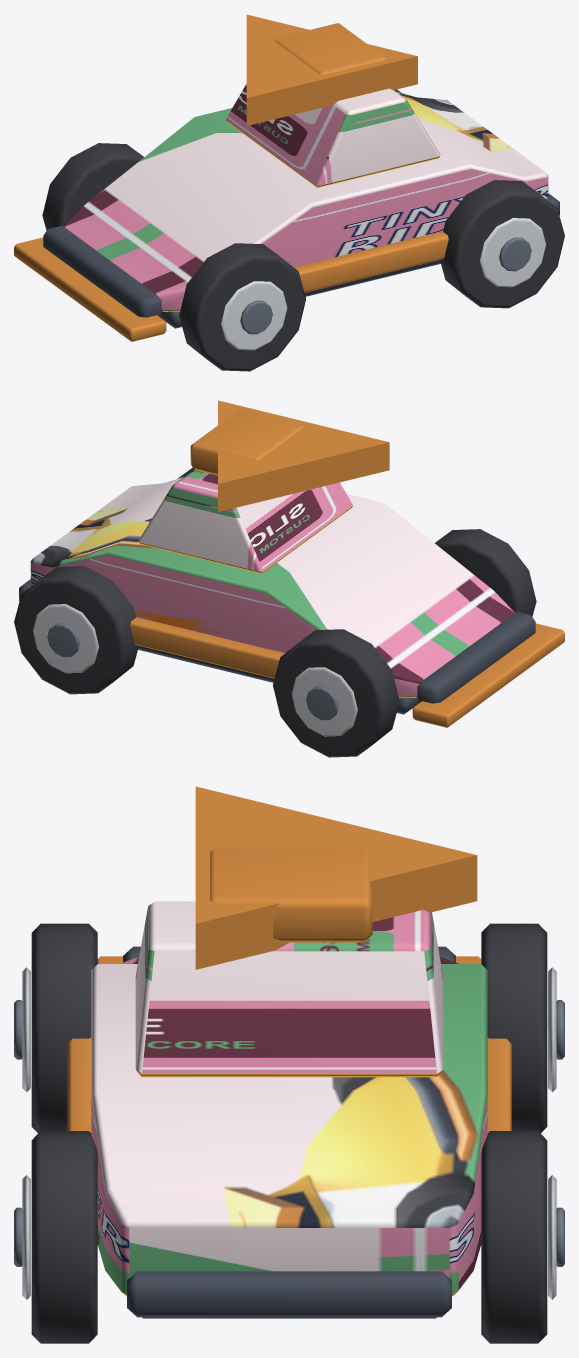
3 views of the same model, one above another, from view 1: azimuth 30°, elevation 25°; view 2: azimuth 150°, elevation 25°; view 3: azimuth 270°, elevation 25° (orthographic). The views are drawn at different scales.
Visible parts, largest first — view 1: SS-02_connected_shell, SS-02_cabin, flat pizza wedge, Tire, Tire.002, Tire.001, custom chin, custom side guard, front bumper, custom equipment, Rim, Rim.002 (+3 smaller); view 2: SS-02_connected_shell, SS-02_cabin, flat pizza wedge, Tire.001, Tire.003, Tire, custom chin, custom side guard.001, custom equipment, front bumper, Rim.001, Rim.003 (+3 smaller); view 3: SS-02_connected_shell, SS-02_cabin, flat pizza wedge, rear bumper, Tire.002, Tire.003, custom equipment, Tire, Tire.001, custom side guard, custom side guard.001, Rim (+3 smaller).
Boxes of the visible parts, x1,y1,x2,y2 form: SS-02_connected_shell: (64,91,548,311); SS-02_cabin: (226,84,440,187); flat pizza wedge: (246,14,417,125); Tire: (179,243,305,371); Tire.002: (440,180,564,308); Tire.001: (42,143,143,230); custom chin: (14,237,166,341); custom side guard: (293,231,448,292); front bumper: (43,226,162,317); custom equipment: (274,23,386,74); Rim: (221,281,287,350); Rim.002: (480,218,545,287); SS-02_connected_shell: (30,477,514,697); SS-02_cabin: (138,469,352,573); flat pizza wedge: (218,400,389,511); Tire.001: (273,629,399,757); Tire.003: (14,566,138,694); Tire: (435,529,536,616); custom chin: (412,623,564,727); custom side guard.001: (130,617,285,678); custom equipment: (190,409,304,475); front bumper: (416,612,535,703); Rim.001: (291,667,357,736); Rim.003: (33,604,98,673); SS-02_connected_shell: (91,957,487,1296); SS-02_cabin: (135,901,443,1077); flat pizza wedge: (195,786,477,969); rear bumper: (127,1271,451,1317); Tire.002: (31,1131,97,1343); Tire.003: (481,1131,547,1343); custom equipment: (210,847,372,942); Tire: (31,923,97,1133); Tire.001: (481,923,547,1133); custom side guard: (67,1038,91,1132); custom side guard.001: (487,1038,511,1132); Rim: (22,967,30,1092).
Size of the model in its own units: 330 by 165 by 217.
